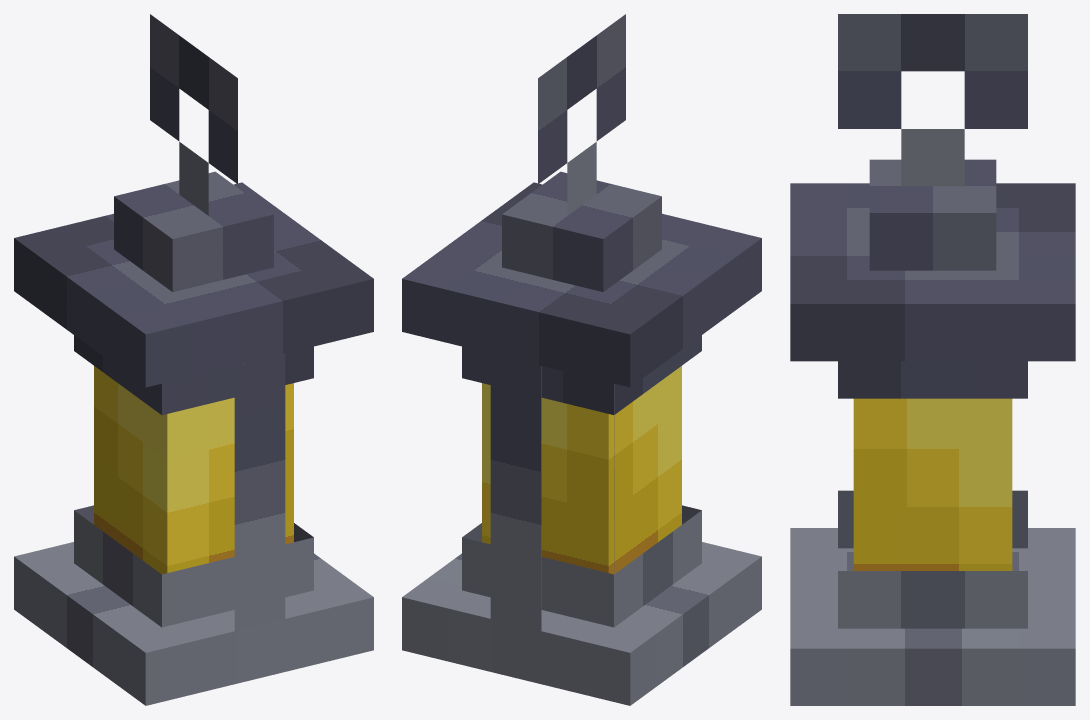
Rendered from lamp.gltf.
The picture shows the model from 3 angles, left to right: view 1: azimuth 30°, elevation 25°; view 2: azimuth 150°, elevation 25°; view 3: azimuth 270°, elevation 25°; orthographic projection. The views are drawn at different scales.
Visible parts, largest first — view 1: cube (×8); view 2: cube (×8); view 3: cube (×7).
Boxes of the visible parts, x1,y1,x2,y2 form: cube (×8): (14, 14, 373, 705); cube (×8): (402, 14, 761, 705); cube (×7): (790, 14, 1075, 705).
Size of the model in its own units: 0.2812 by 0.6875 by 0.2813.
1 material, 1 textured.
